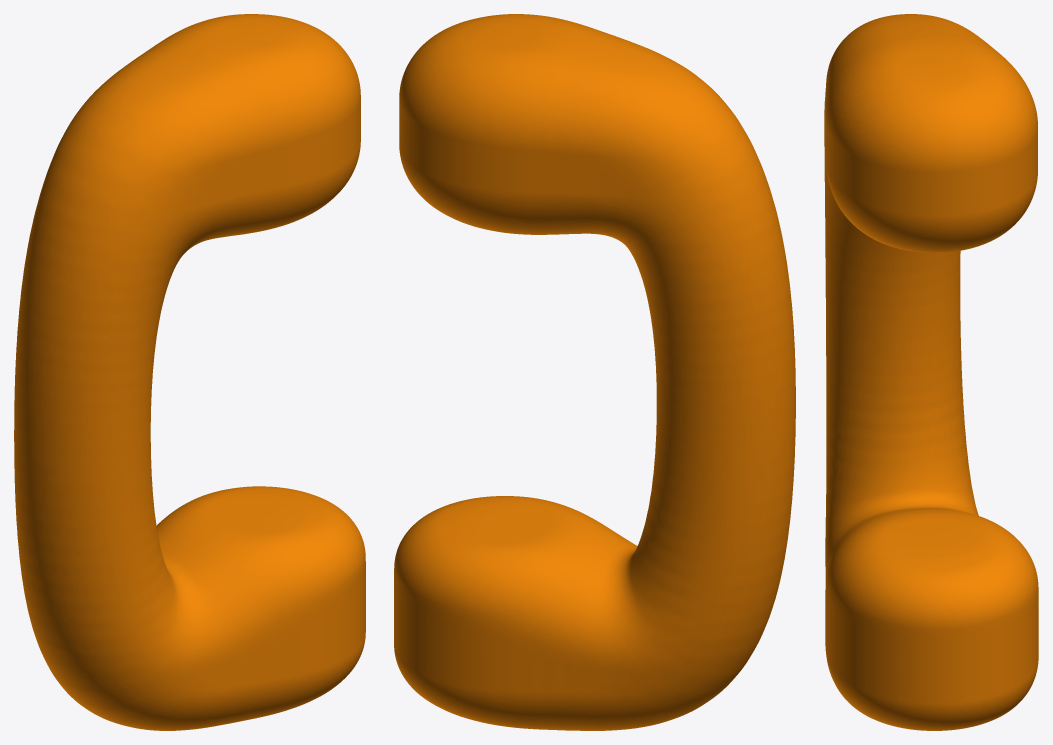
File: phone_compressed.glb
3 renders of one model, left to right at view 1: azimuth 30°, elevation 25°; view 2: azimuth 150°, elevation 25°; view 3: azimuth 270°, elevation 25°, orthographic. The views are drawn at different scales.
Bounding box in the file's own units: 119 × 214 × 64.12.
Materials: 1 (1 with a texture image).
